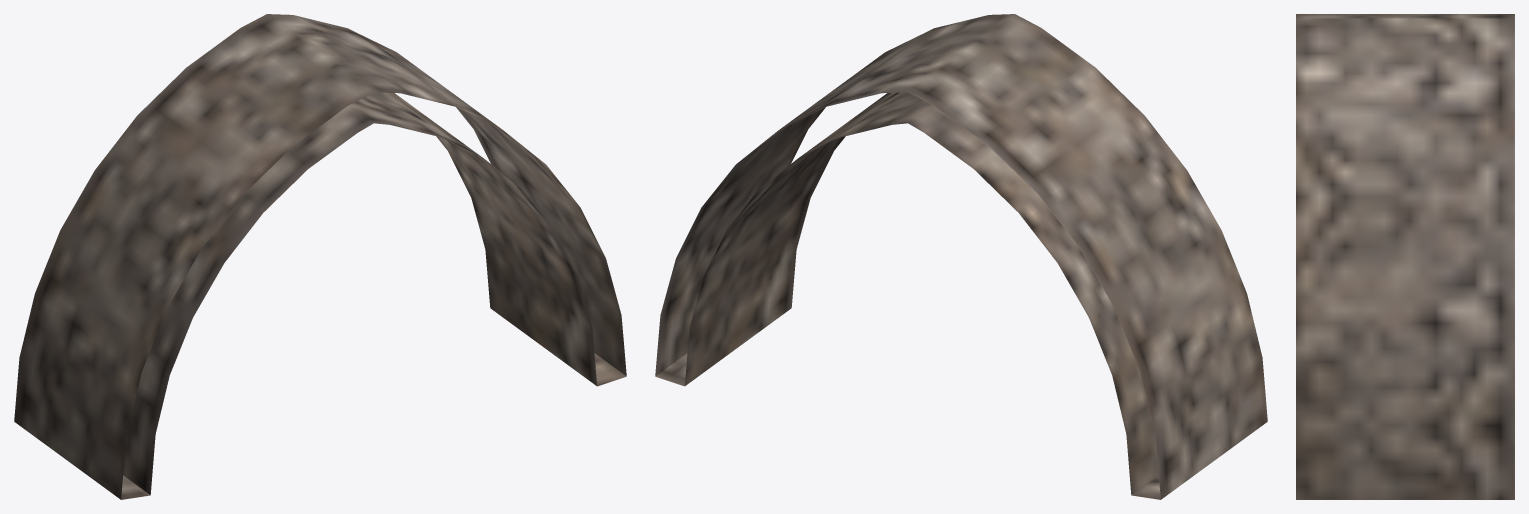
Rendered from SM_zhucheng_CastleArch_02.FBX.
3 renders of one model, left to right at view 1: azimuth 30°, elevation 25°; view 2: azimuth 150°, elevation 25°; view 3: azimuth 270°, elevation 25°, orthographic. The views are drawn at different scales.
Parts seen in each view (by area): view 1: SM_zhucheng_CastleArch_02; view 2: SM_zhucheng_CastleArch_02; view 3: SM_zhucheng_CastleArch_02.
Part boxes in pixels (left/top/right/bottom): SM_zhucheng_CastleArch_02: left=14, top=14, right=626, bottom=499; SM_zhucheng_CastleArch_02: left=655, top=14, right=1267, bottom=499; SM_zhucheng_CastleArch_02: left=1296, top=14, right=1514, bottom=499.
Size of the model in its own units: 101 by 66.27 by 36.85.
